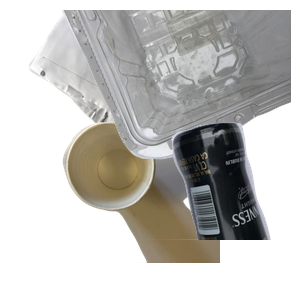glass: (106, 120, 300, 300)
paper: (27, 10, 252, 187)
plastic: (60, 10, 300, 162)
trash: (60, 120, 300, 300)
